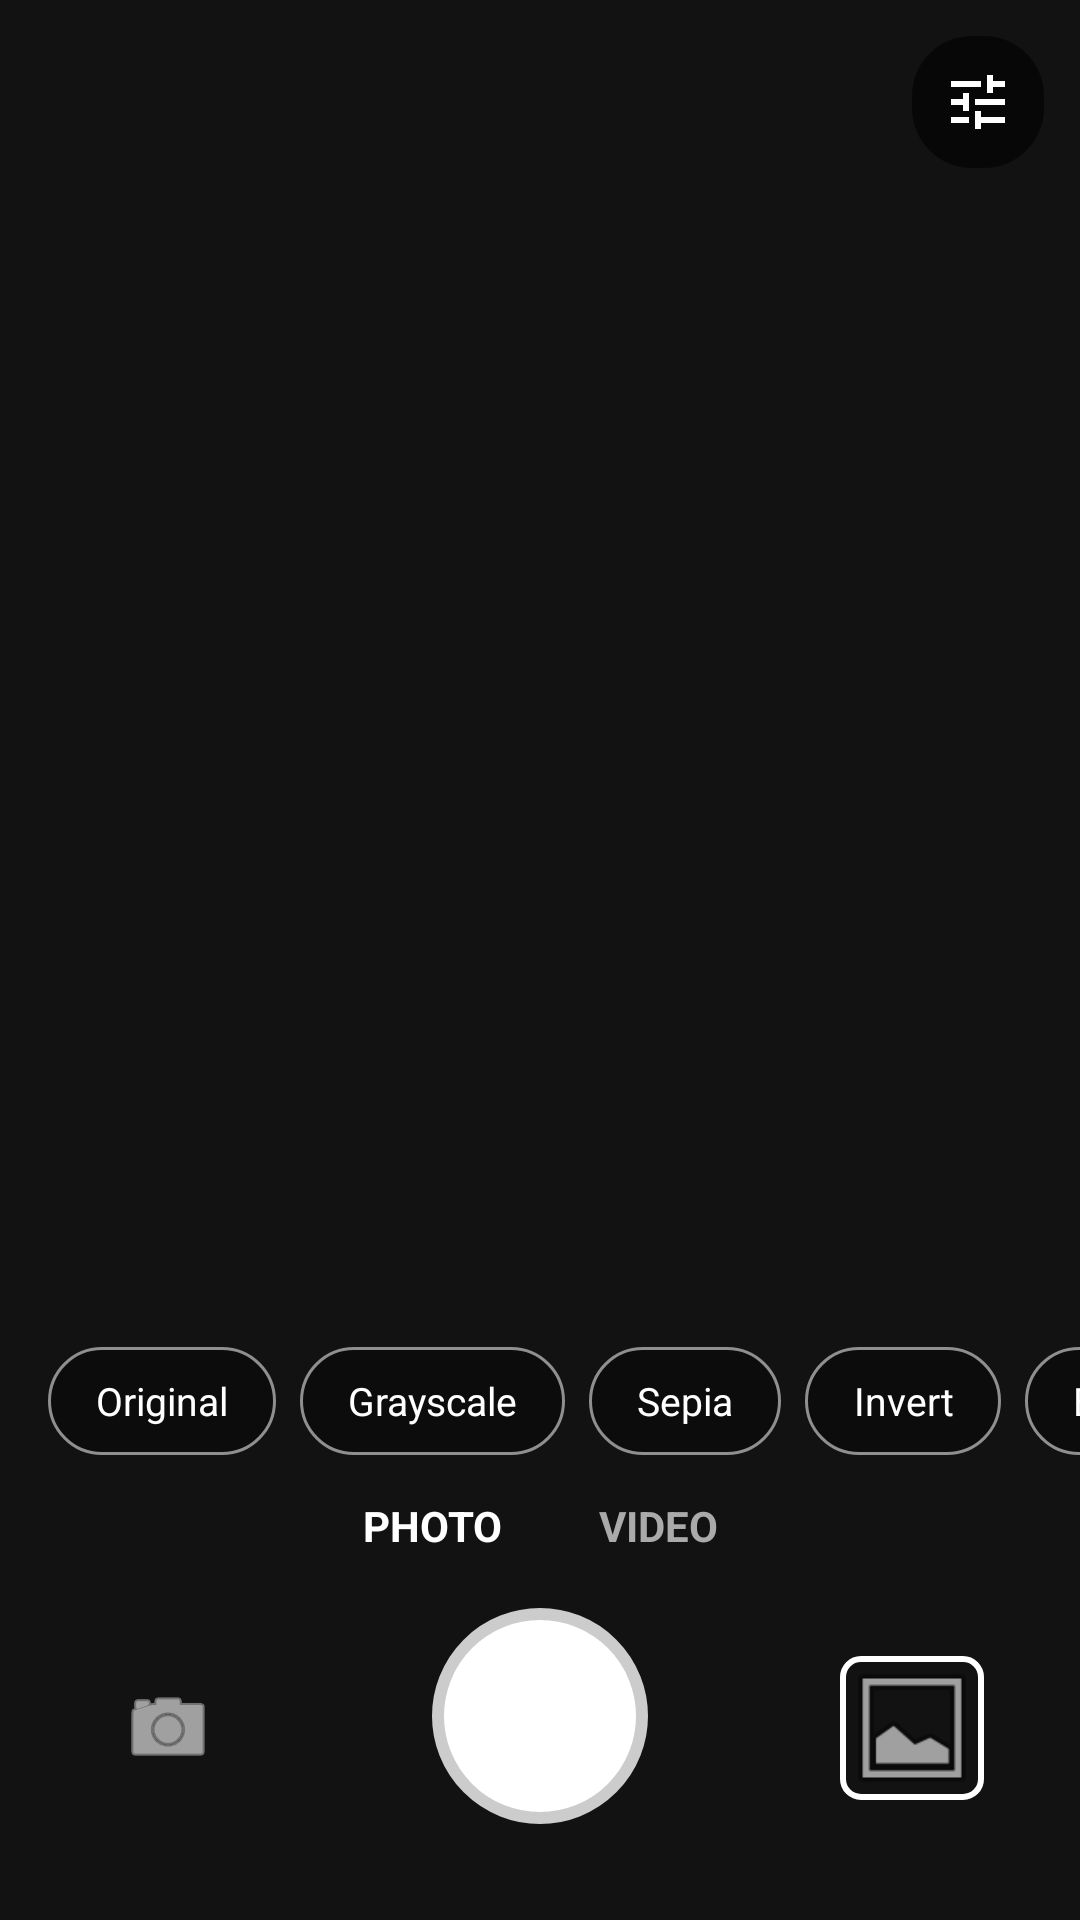

Icon bounding boxes for this 1080 x 1920 phone screenshot, format [x1, y1, x2, y2]:
Adjustments: [912, 36, 1044, 168]
Open gallery: [840, 1656, 984, 1800]
Switch camera: [131, 1697, 205, 1756]
